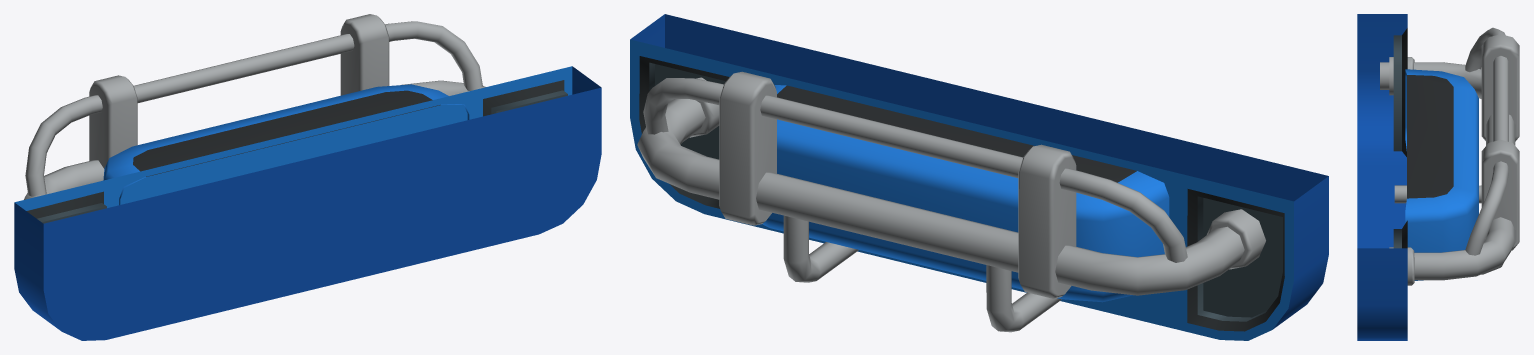
The model's file is Car_07_RearBumper_Cool.fbx.
The picture shows the model from 3 angles, left to right: view 1: azimuth 30°, elevation 25°; view 2: azimuth 150°, elevation 25°; view 3: azimuth 270°, elevation 25°; orthographic projection. The views are drawn at different scales.
Parts seen in each view (by area): view 1: Car_07_RearBumper_Cool; view 2: Car_07_RearBumper_Cool; view 3: Car_07_RearBumper_Cool.
Part boxes in pixels (box(x1,y1,x2,y2)): Car_07_RearBumper_Cool: box(14, 14, 601, 340); Car_07_RearBumper_Cool: box(630, 14, 1328, 340); Car_07_RearBumper_Cool: box(1357, 14, 1519, 340).
Size of the model in its own units: 158 by 46.15 by 47.81.
